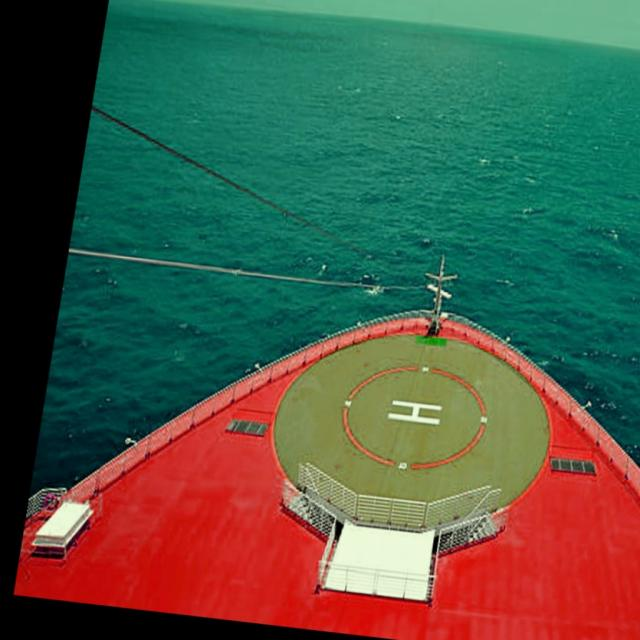helipad: (336, 359, 490, 473)
